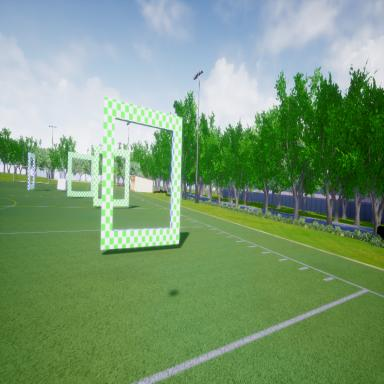gate: (102, 91, 186, 257), (92, 144, 132, 210), (67, 148, 92, 197), (26, 147, 38, 194)
